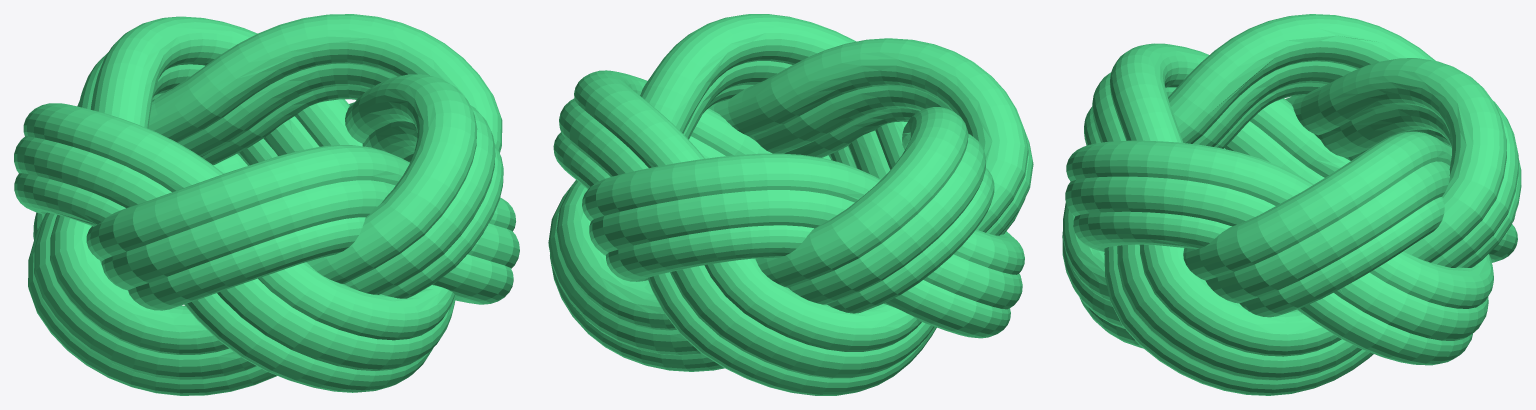
File: neckerchief.glb
3 renders of one model, left to right at view 1: azimuth 30°, elevation 25°; view 2: azimuth 150°, elevation 25°; view 3: azimuth 270°, elevation 25°, orthographic. The views are drawn at different scales.
Visible parts, largest first — view 1: scout_woggle_half; view 2: scout_woggle_half; view 3: scout_woggle_half.
Boxes of the visible parts, x1,y1,x2,y2 form: scout_woggle_half: (14, 14, 519, 395); scout_woggle_half: (548, 14, 1033, 395); scout_woggle_half: (1062, 14, 1521, 395).
Size of the model in its own units: 2.9 by 1.5 by 2.74.
